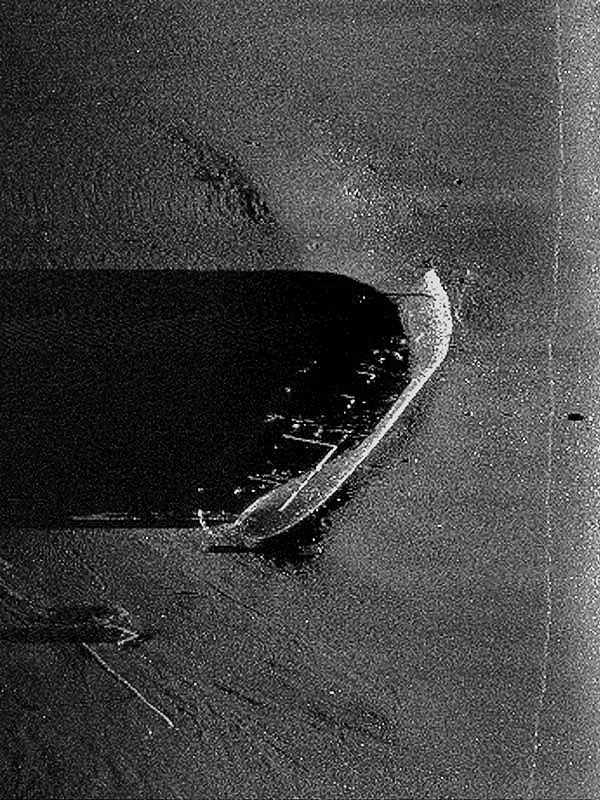ship: (195, 264, 455, 547)
